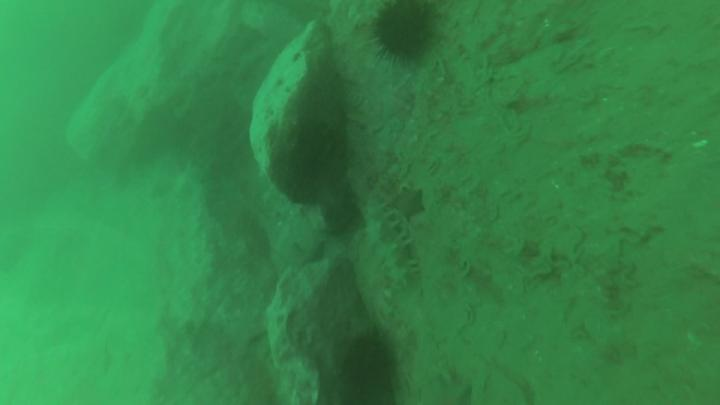echinus: (338, 333, 400, 405), (375, 2, 432, 60)
holothurian: (357, 201, 416, 289)
